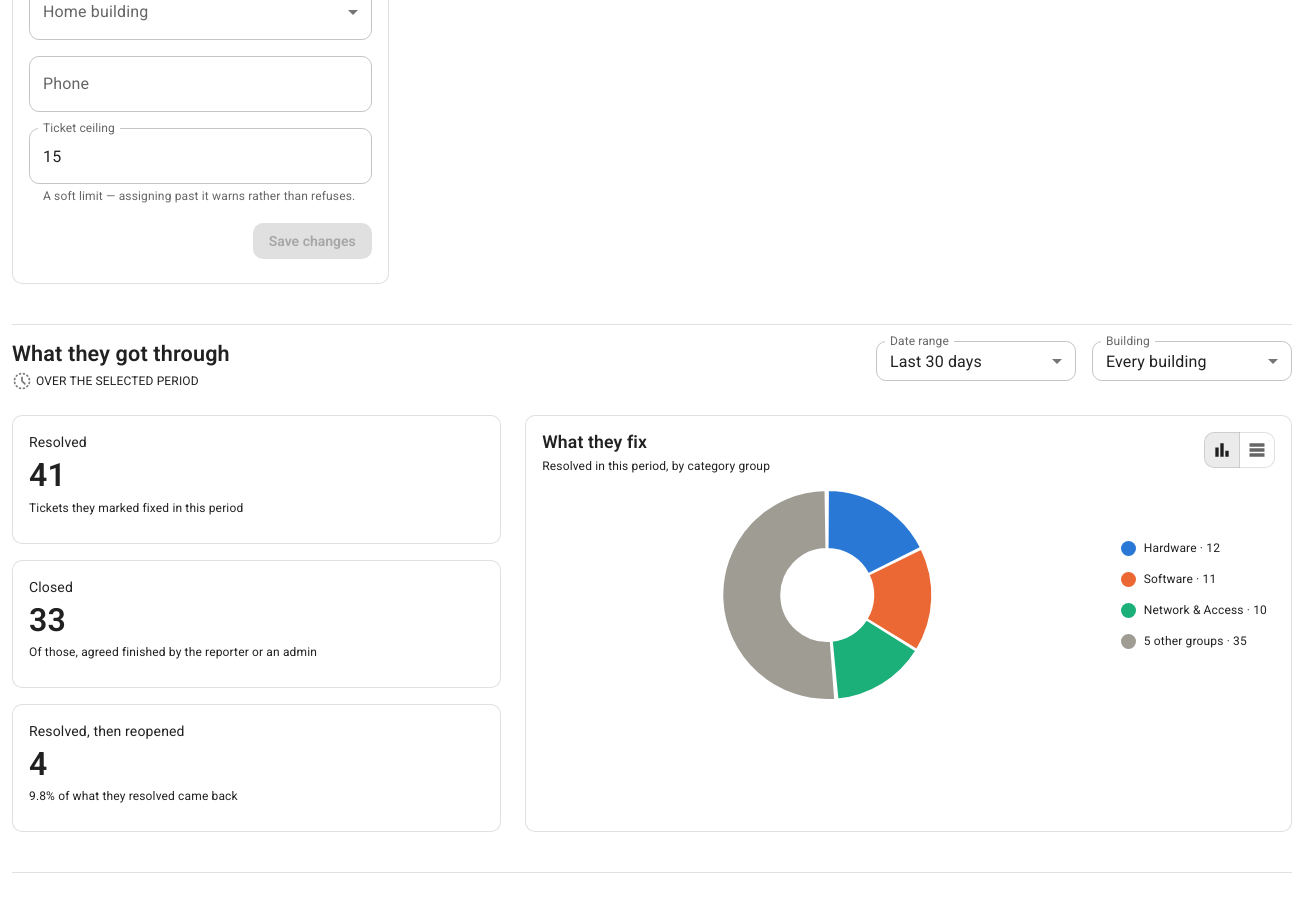
Test: what they fix › still lists every group, with its link, in the table view
(page scrolled)
Check: the text "Resolved" is shown, box [29,434,87,450]
Click the button named "Show as a table": (1257, 450) [1239,432,1275,468]
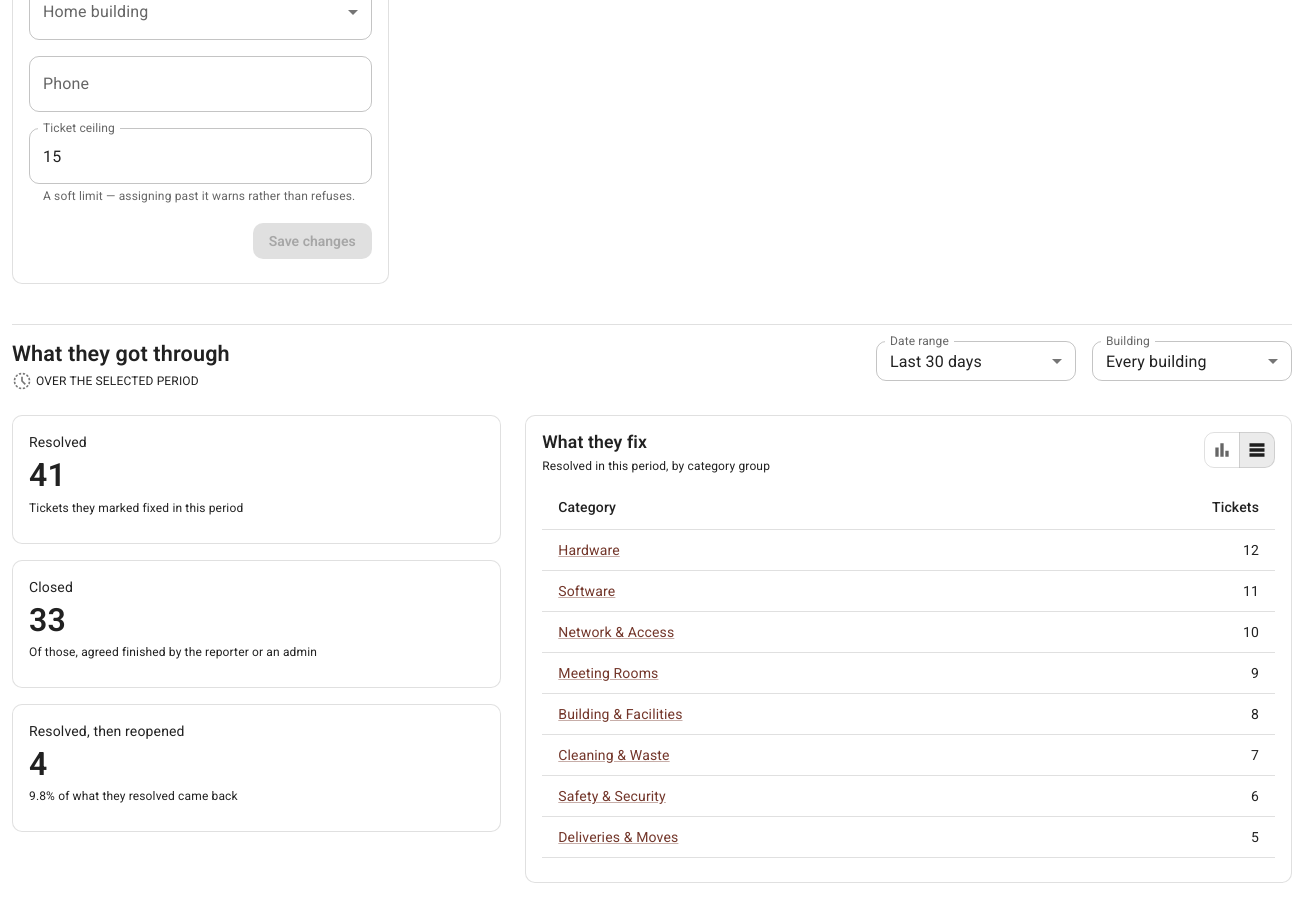
Check: the link "Deliveries & Moves" is shown, box [558,829,678,845]
Check: the link "Safety & Security" is shown, box [558,788,666,804]
